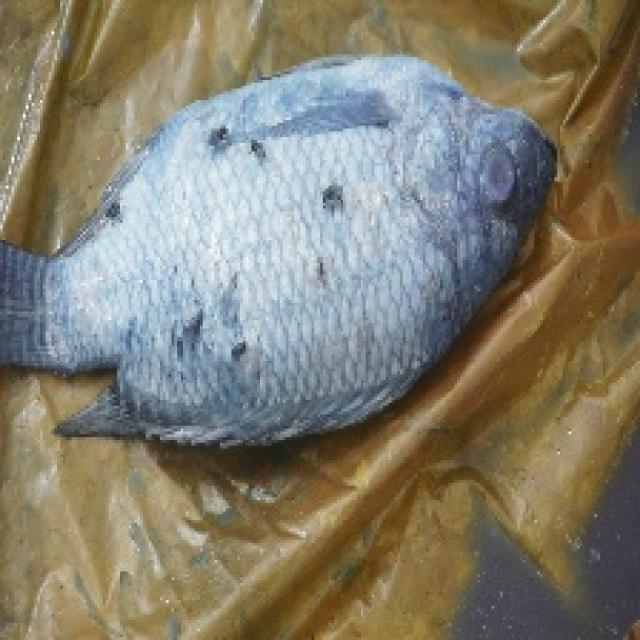Non-Fresh: (142, 145, 362, 393), (424, 121, 546, 222)
